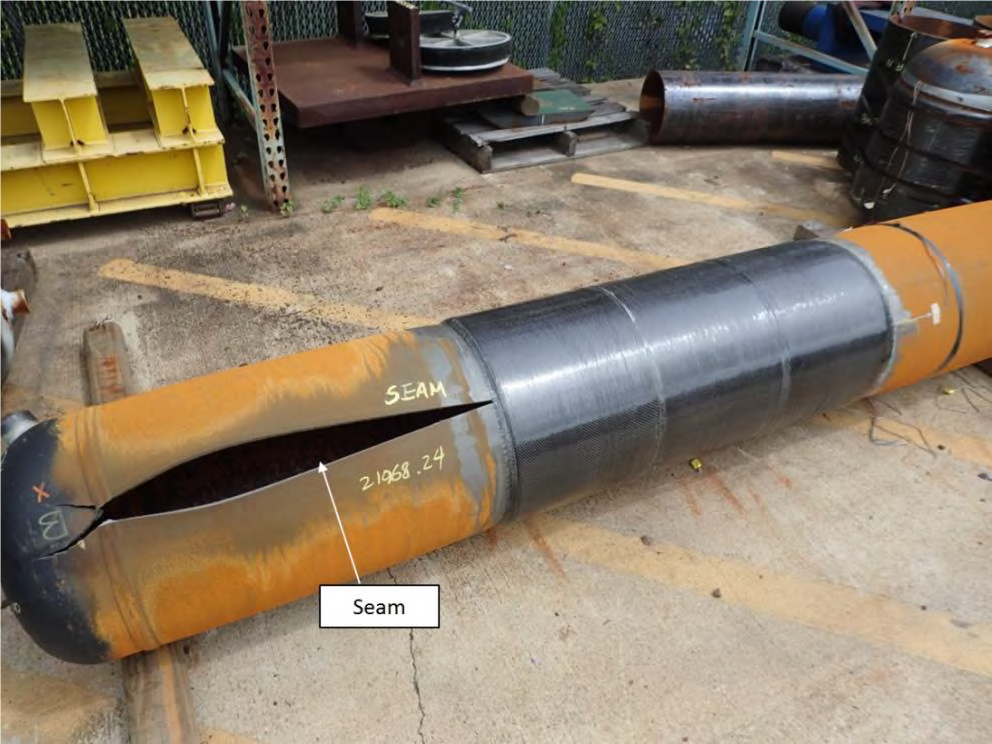rupture: (85, 396, 501, 536)
